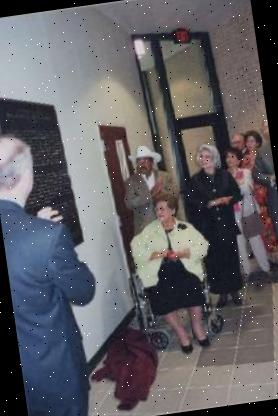person: (117, 186, 225, 370), (179, 138, 258, 326), (110, 139, 186, 228)
